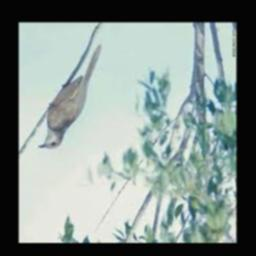Cuckoo: (37, 44, 101, 149)
